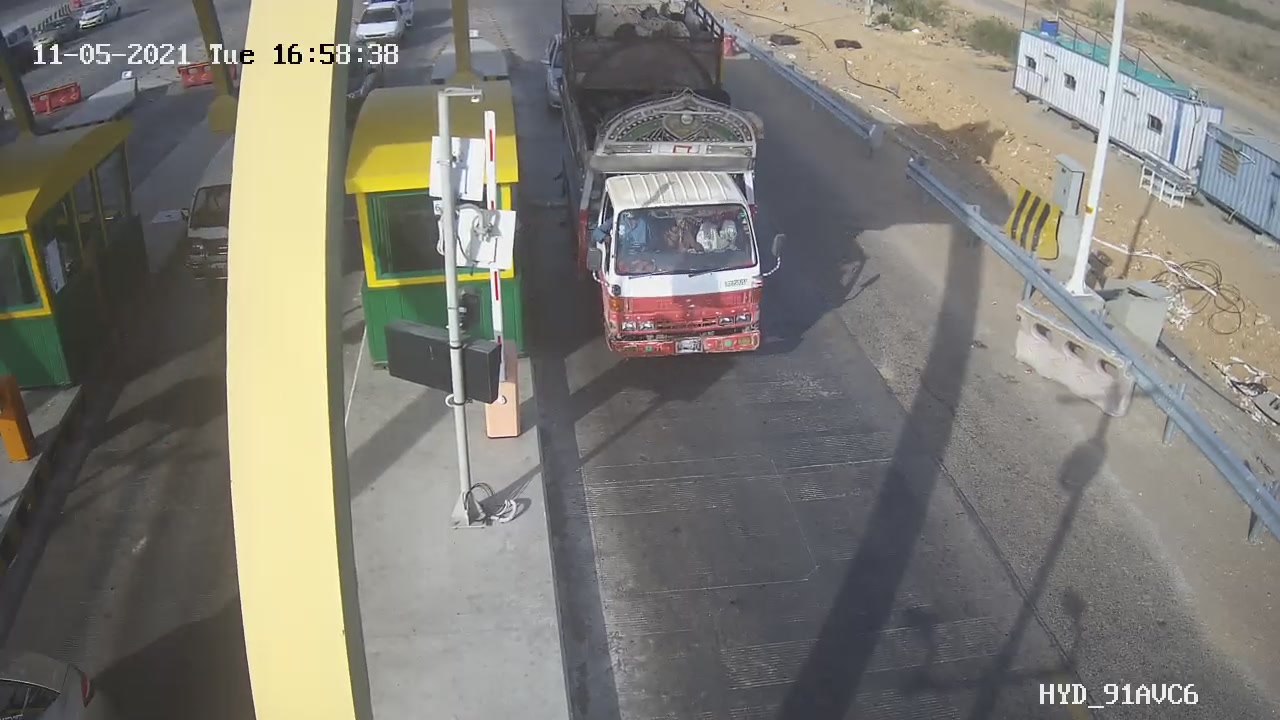F5: (540, 1, 811, 386)
